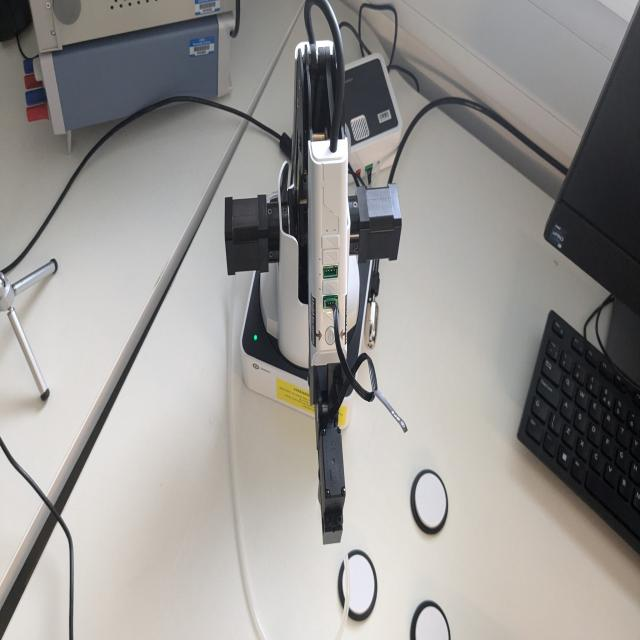Robot-end-effector-HF8z: (313, 422, 348, 552)
